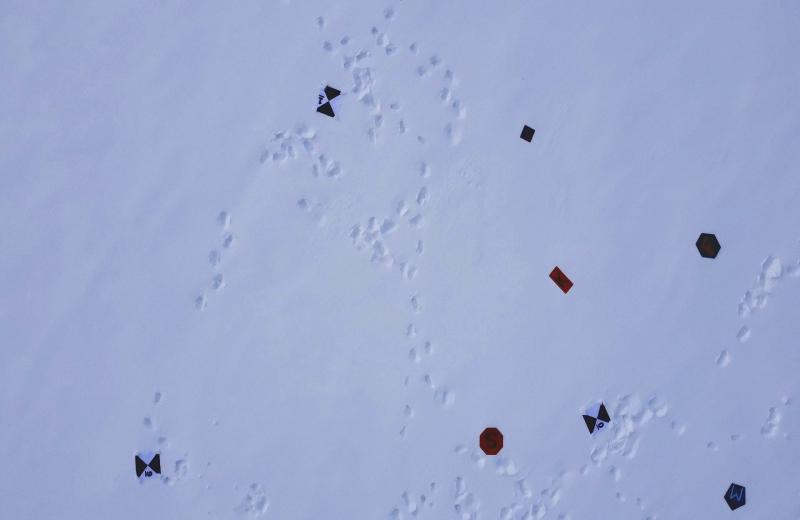Hexagon: (692, 230, 723, 265)
Octagon: (476, 424, 506, 459)
Pentagon: (722, 478, 750, 510)
Rectangle: (546, 262, 574, 297)
Square: (516, 122, 539, 146)
